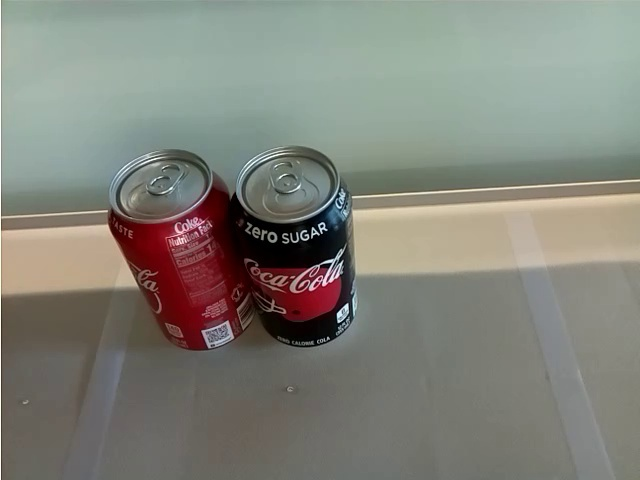cocacola: (104, 145, 254, 354), (234, 144, 357, 349)
